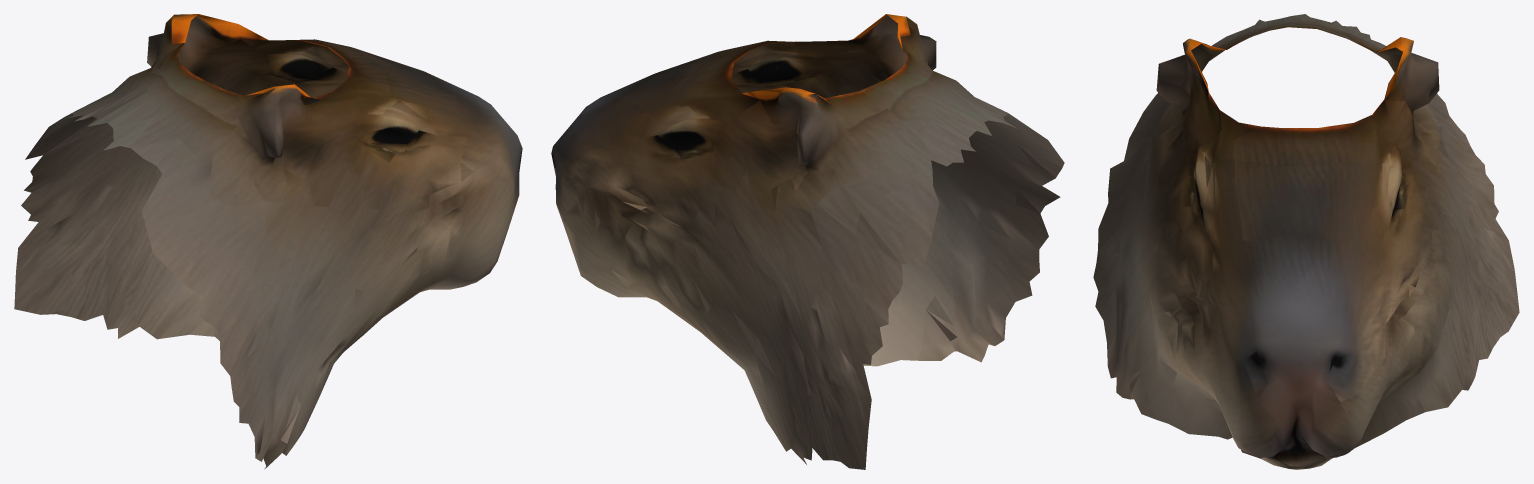
The model's file is cabezaCapi.obj.
3 renders of one model, left to right at view 1: azimuth 30°, elevation 25°; view 2: azimuth 150°, elevation 25°; view 3: azimuth 270°, elevation 25°, orthographic. The views are drawn at different scales.
Visible parts, largest first — view 1: cabezaCapi; view 2: cabezaCapi; view 3: cabezaCapi.
Part boxes in pixels (x1,y1,x2,y2): cabezaCapi: (14,14,522,469); cabezaCapi: (551,14,1064,469); cabezaCapi: (1093,14,1519,469).
Bounding box in the file's own units: 0.3632 × 0.3024 × 0.2871.
Materials: 1 (1 with a texture image).
